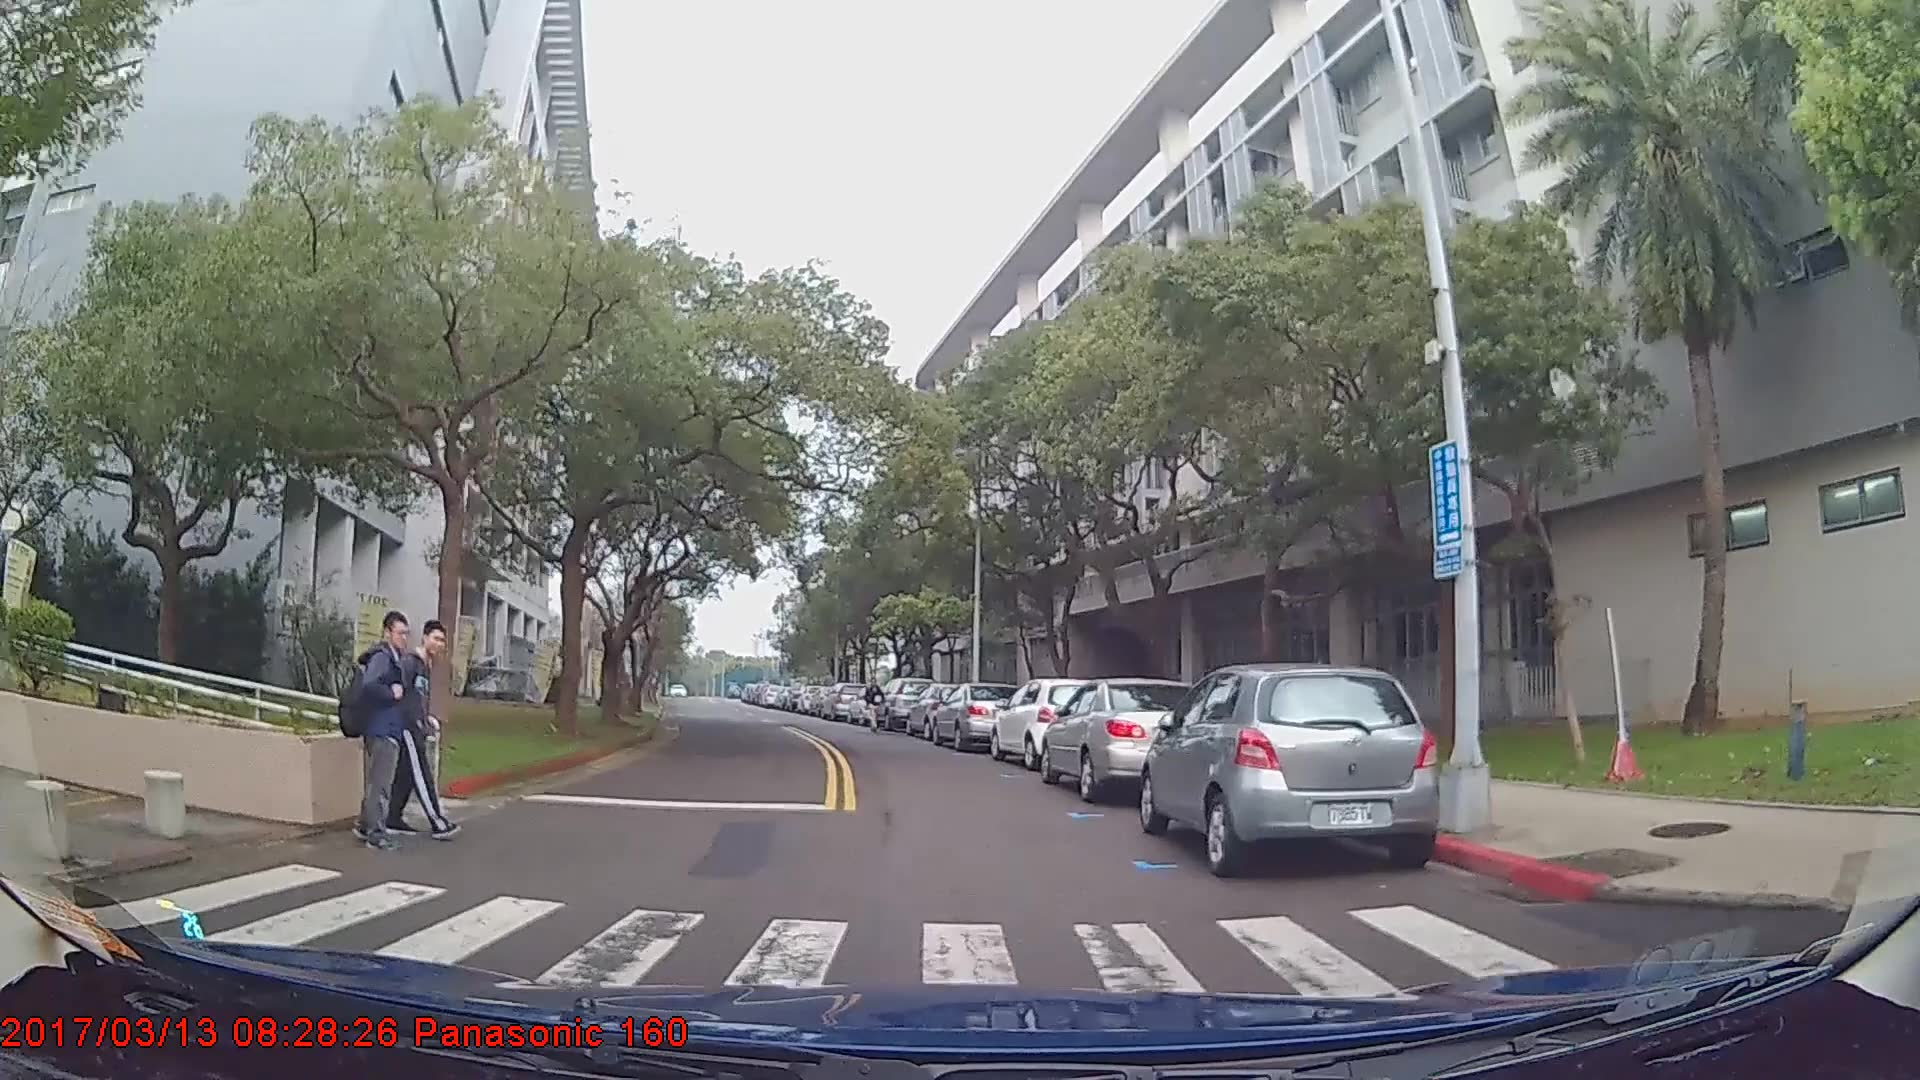pedestrian: (324, 615, 418, 857), (375, 622, 467, 847), (865, 677, 888, 736)
vehicle: (1139, 659, 1440, 878), (1038, 677, 1221, 803), (990, 677, 1107, 770), (931, 679, 1025, 750), (907, 679, 982, 739), (871, 675, 938, 730), (823, 682, 873, 720)
